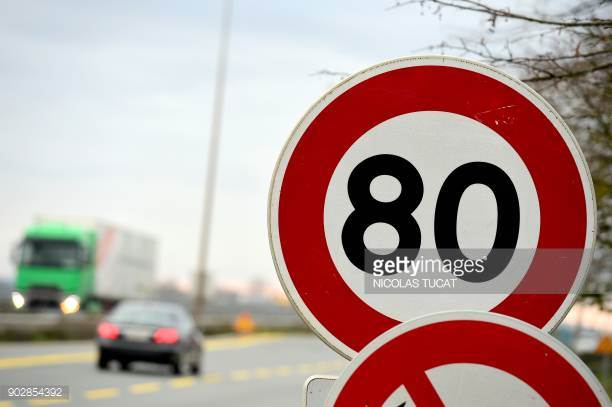Speed_limit_80km: (266, 57, 599, 364)
